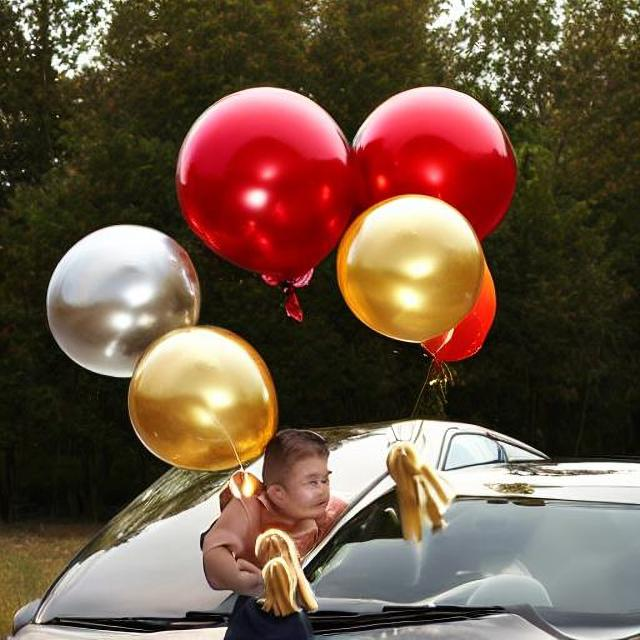balloon: (168, 86, 507, 362), (49, 224, 284, 474)
